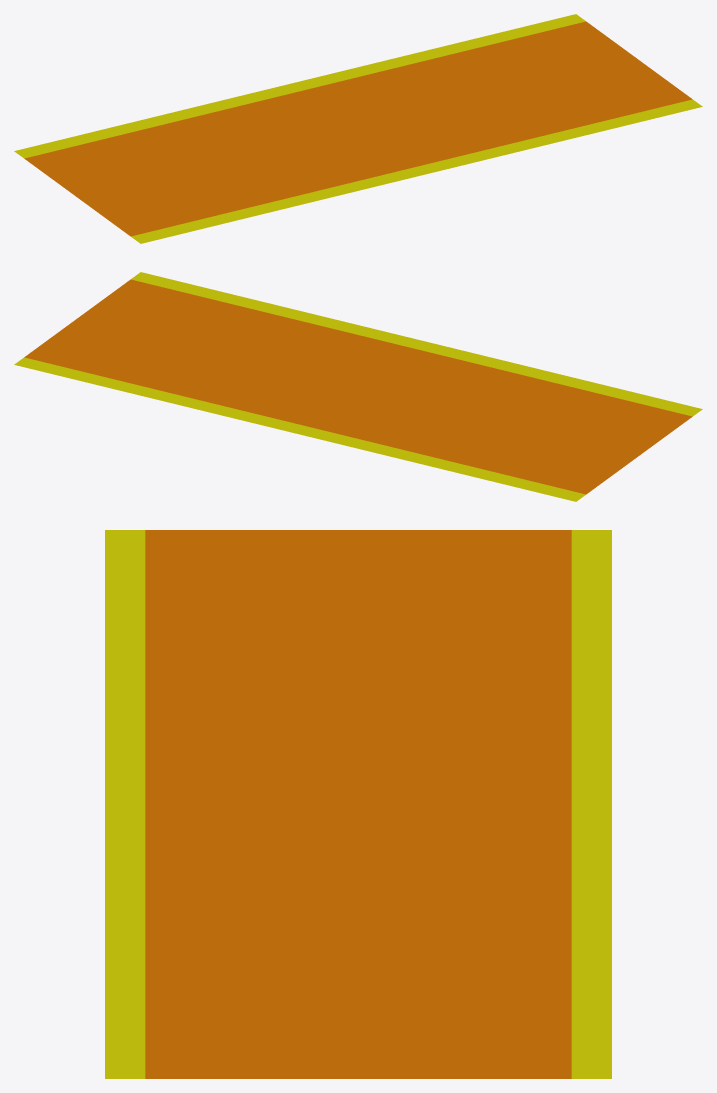
File: Mesh_road_small.fbx
3 renders of one model, top to bottom at view 1: azimuth 30°, elevation 25°; view 2: azimuth 150°, elevation 25°; view 3: azimuth 270°, elevation 25°, orthographic. The views are drawn at different scales.
Parts seen in each view (by area): view 1: Mesh_road_small; view 2: Mesh_road_small; view 3: Mesh_road_small.
Part boxes in pixels (<box>): Mesh_road_small: <box>14,14,702,243</box>; Mesh_road_small: <box>14,272,702,501</box>; Mesh_road_small: <box>105,530,611,1078</box>.
Size of what is drawn, in the model's own units: 1600 by 0.000102 by 625.
